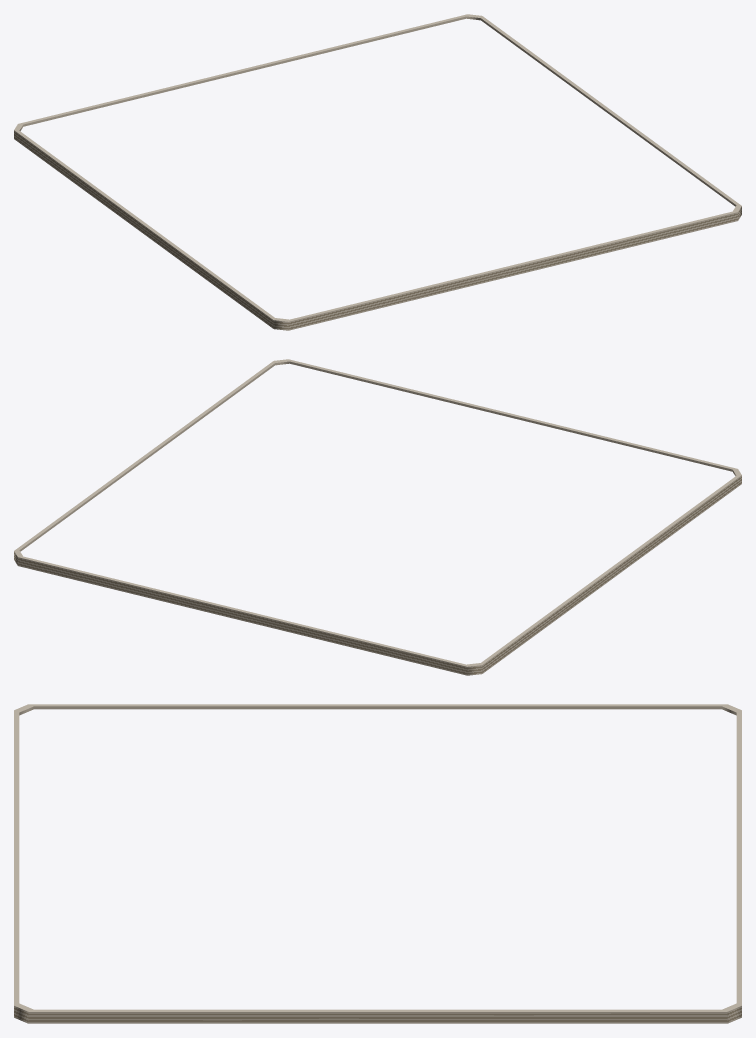
Rendered from kd_stage_135b75_4_116.glb.
3 renders of one model, top to bottom at view 1: azimuth 30°, elevation 25°; view 2: azimuth 150°, elevation 25°; view 3: azimuth 270°, elevation 25°, orthographic. The views are drawn at different scales.
Visible parts, largest first — view 1: kd_stage_135b75_4_116; view 2: kd_stage_135b75_4_116; view 3: kd_stage_135b75_4_116.
Part boxes in pixels (x1=…): kd_stage_135b75_4_116: x1=14, y1=14, x2=741, y2=330; kd_stage_135b75_4_116: x1=14, y1=359, x2=741, y2=675; kd_stage_135b75_4_116: x1=14, y1=704, x2=741, y2=1023.
Size of the model in its own units: 1.1 by 0.02 by 1.1.
1 material, 1 textured.
